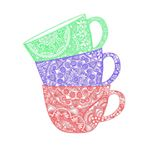cups: (39, 83, 128, 137), (21, 11, 111, 64), (33, 47, 124, 87)
